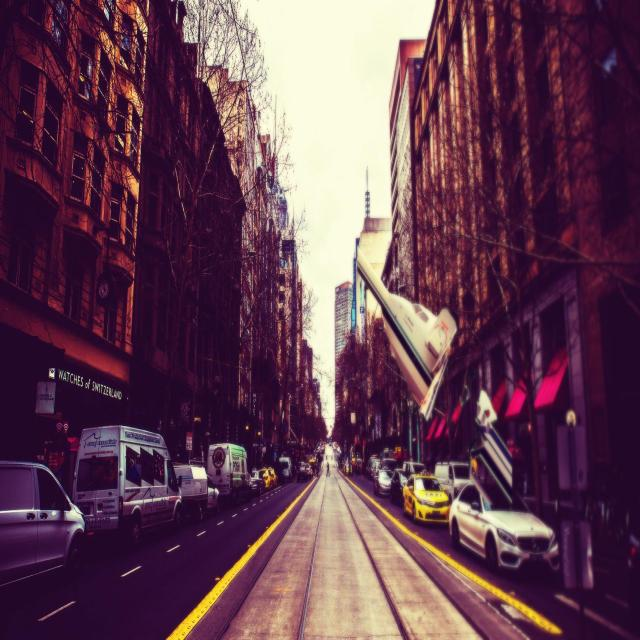airplane: (354, 245, 513, 502)
